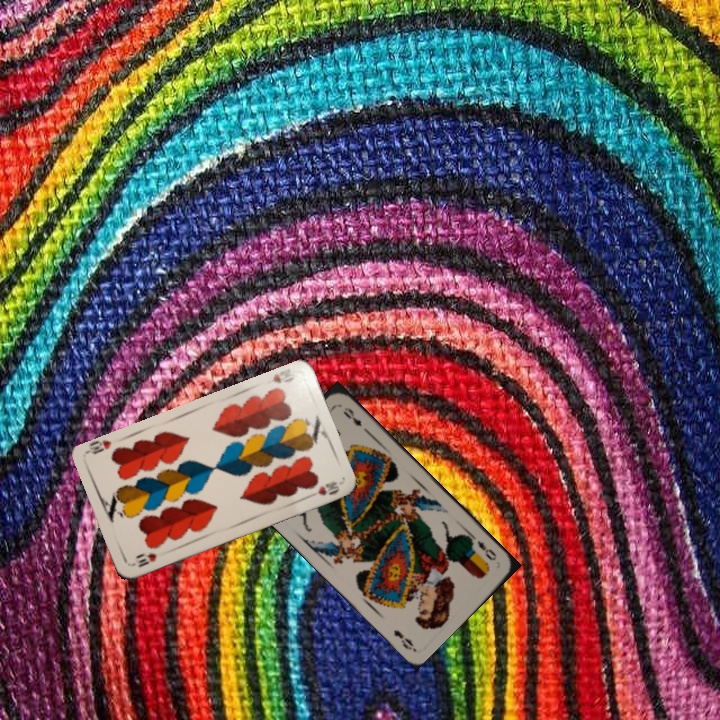EO: (473, 536, 499, 563)
H10: (268, 365, 297, 386), (134, 549, 159, 570)
